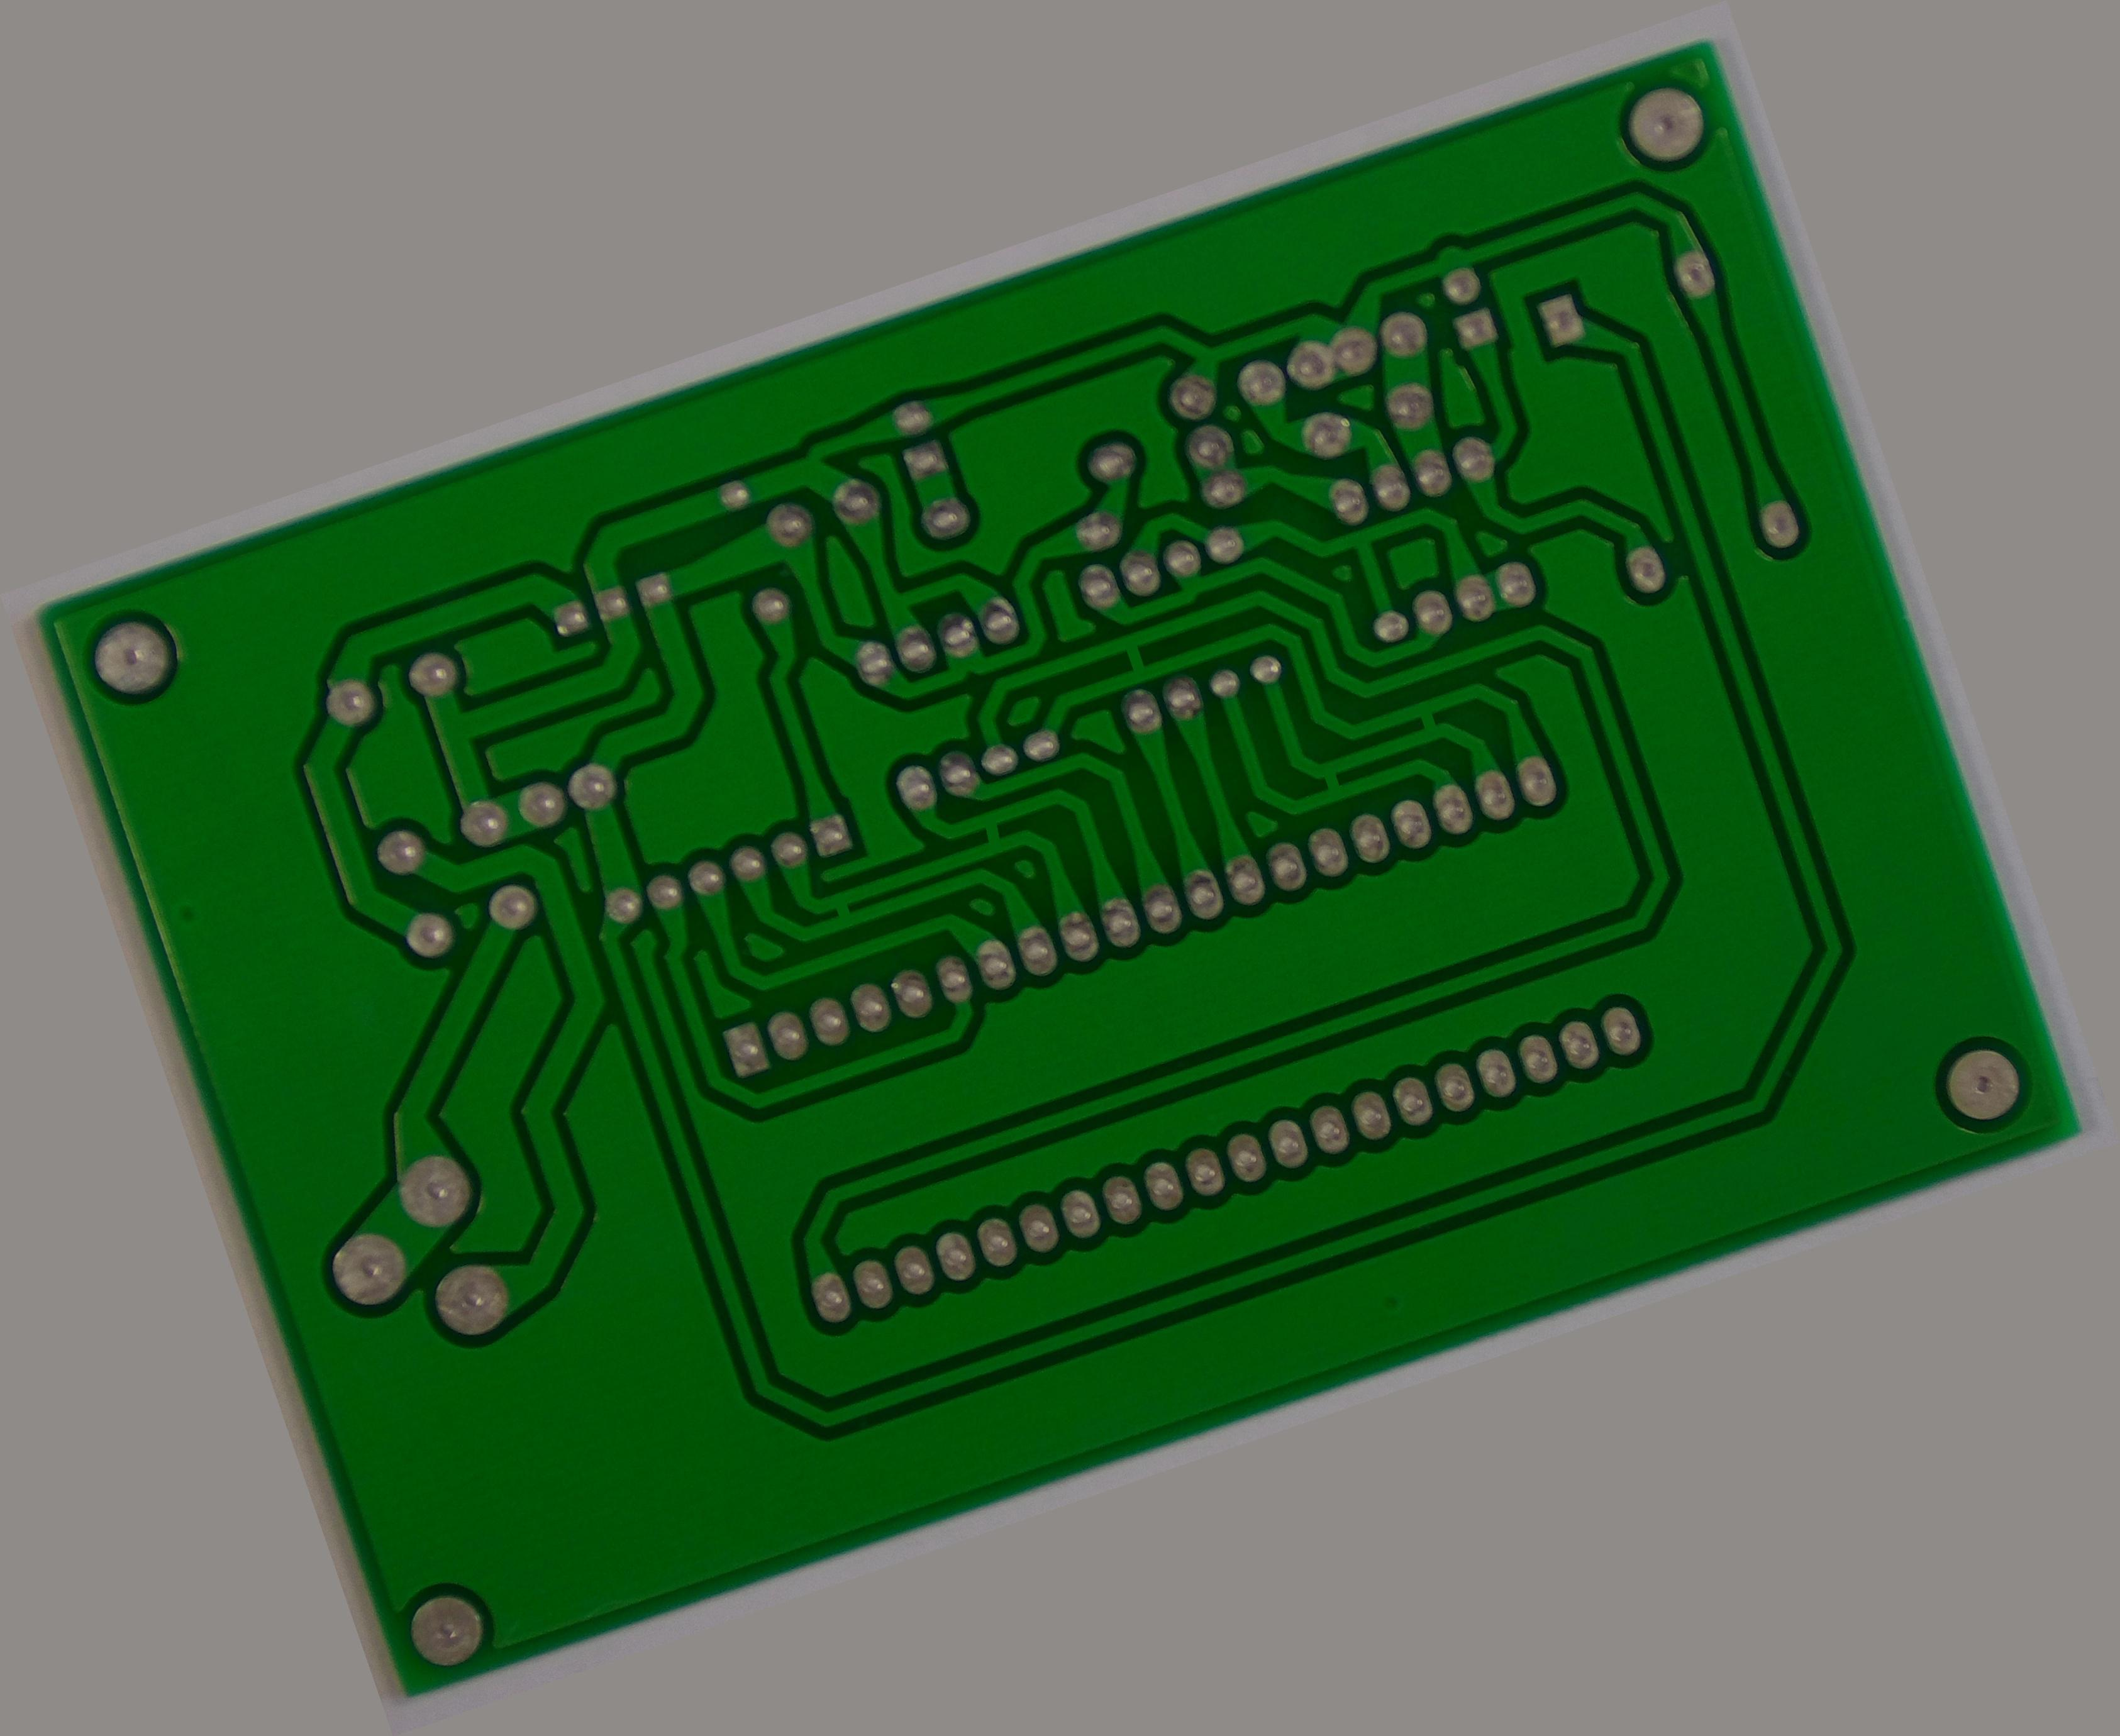short: (1092, 616, 1173, 695), (1292, 741, 1366, 813), (956, 796, 1025, 864), (1395, 687, 1458, 752), (806, 879, 873, 938)
